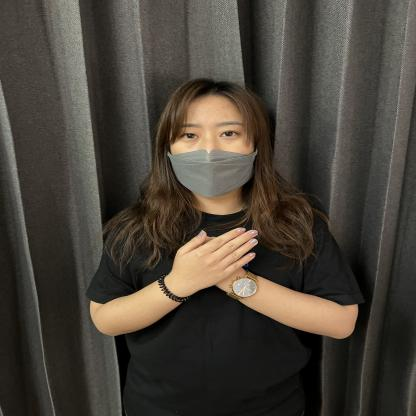Grieve: (80, 224, 356, 316)
